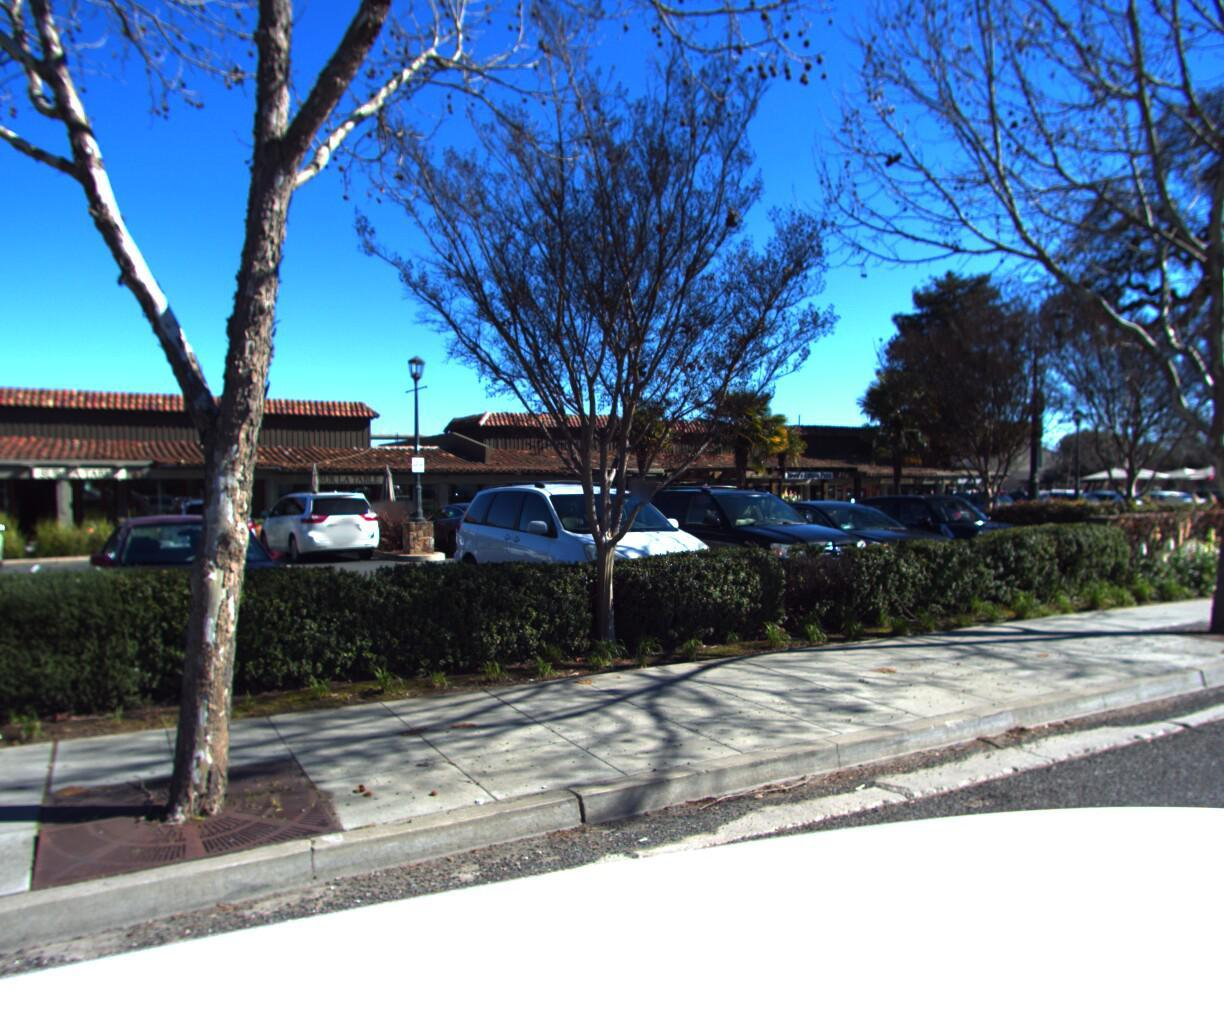car: (432, 465, 737, 627), (76, 506, 307, 719), (586, 476, 886, 623), (701, 492, 970, 616), (789, 489, 1062, 601)
